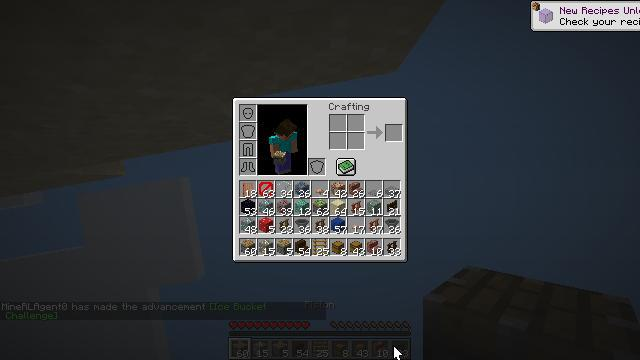cursor: (393, 345, 403, 360)
